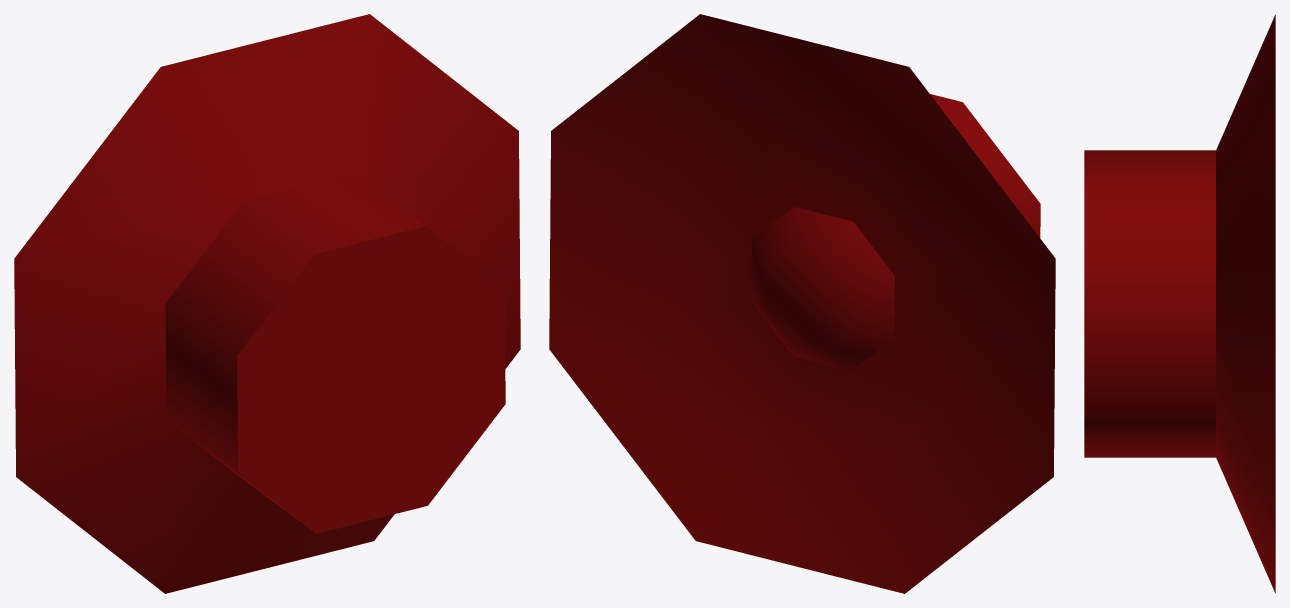
File: speaker.dae
3 views of the same model, side by side, from view 1: azimuth 30°, elevation 25°; view 2: azimuth 150°, elevation 25°; view 3: azimuth 270°, elevation 25° (orthographic). The views are drawn at different scales.
Visible parts, largest first — view 1: Cylinder; view 2: Cylinder; view 3: Cylinder.
Part boxes in pixels (x1=…): Cylinder: x1=14, y1=14, x2=520, y2=593; Cylinder: x1=549, y1=14, x2=1055, y2=593; Cylinder: x1=1084, y1=14, x2=1275, y2=593.
Size of the model in its own units: 3.5 by 1.24 by 3.5.
1 material, 1 textured.
